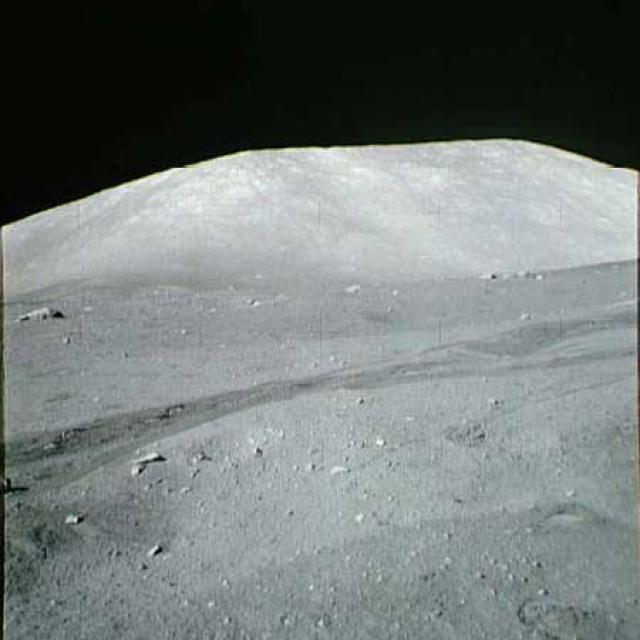rock: (12, 302, 67, 327), (126, 447, 169, 466), (499, 268, 544, 284), (477, 270, 496, 286)
